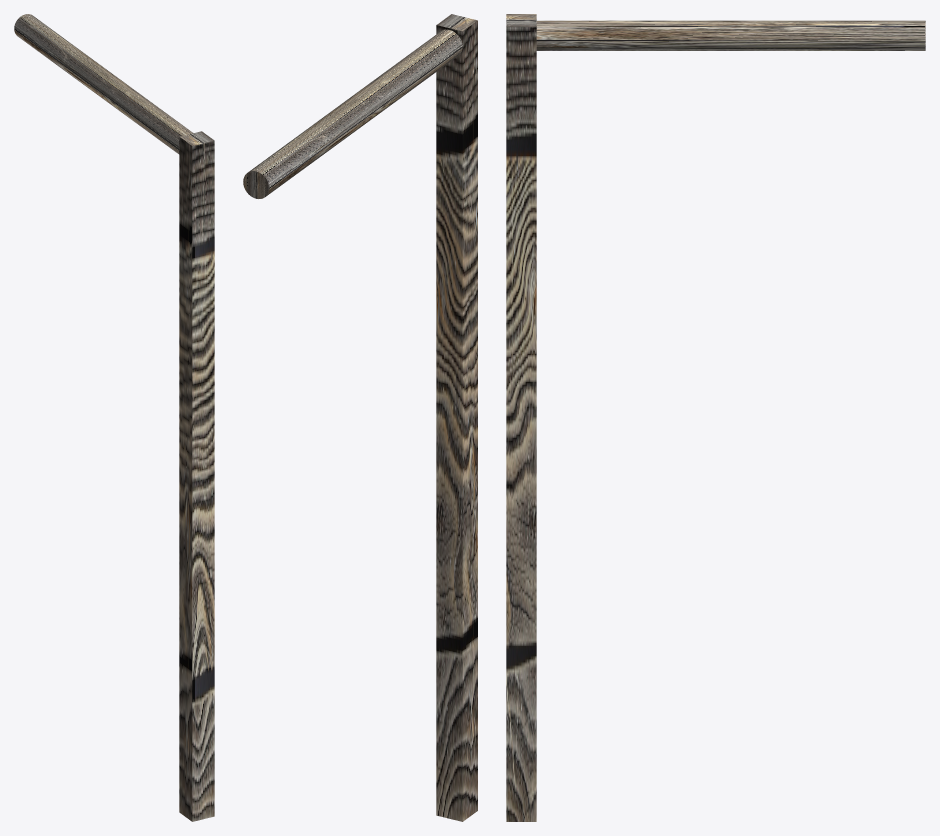
File: МОЛОТ2.fbx
The picture shows the model from 3 angles, left to right: view 1: azimuth 30°, elevation 25°; view 2: azimuth 150°, elevation 25°; view 3: azimuth 270°, elevation 25°; orthographic projection. The views are drawn at different scales.
Parts seen in each view (by area): view 1: Cylinder; view 2: Cylinder; view 3: Cylinder.
Part boxes in pixels (box(x1,y1,x2,y2)): Cylinder: box(14, 14, 214, 821); Cylinder: box(243, 14, 477, 821); Cylinder: box(506, 14, 925, 821).
Size of the model in its own units: 200 by 5763 by 2755.
